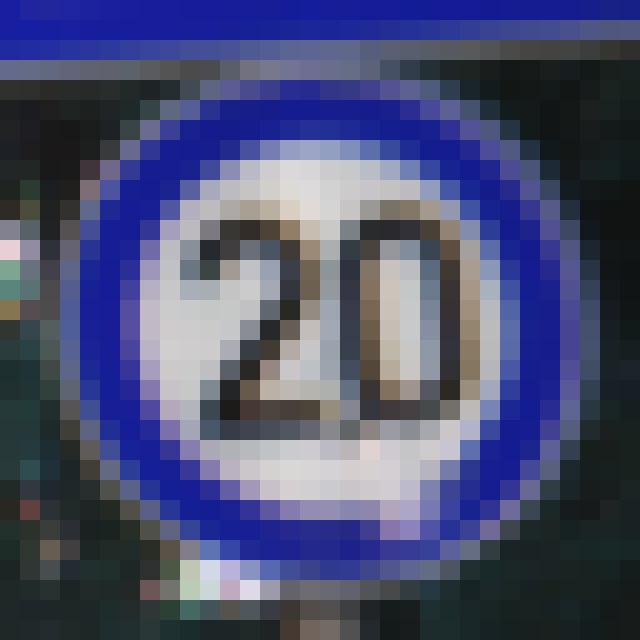SPEED LIMIT 20: (59, 85, 596, 576)
